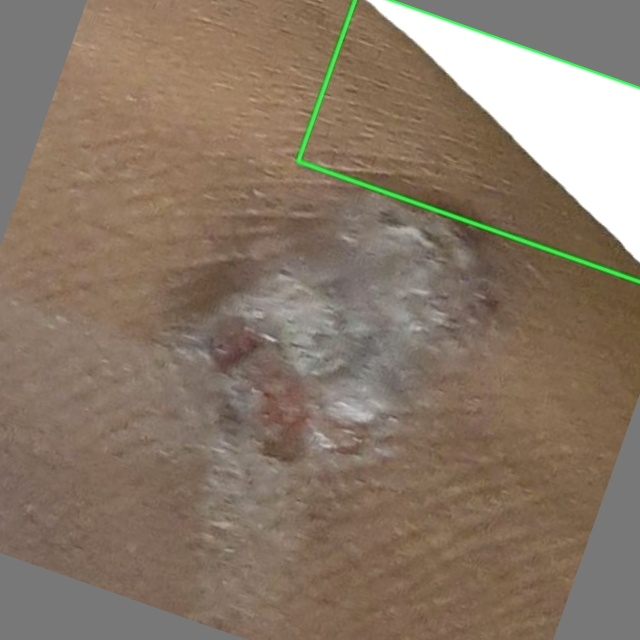Contact Dermatitis: (298, 0, 639, 281)
